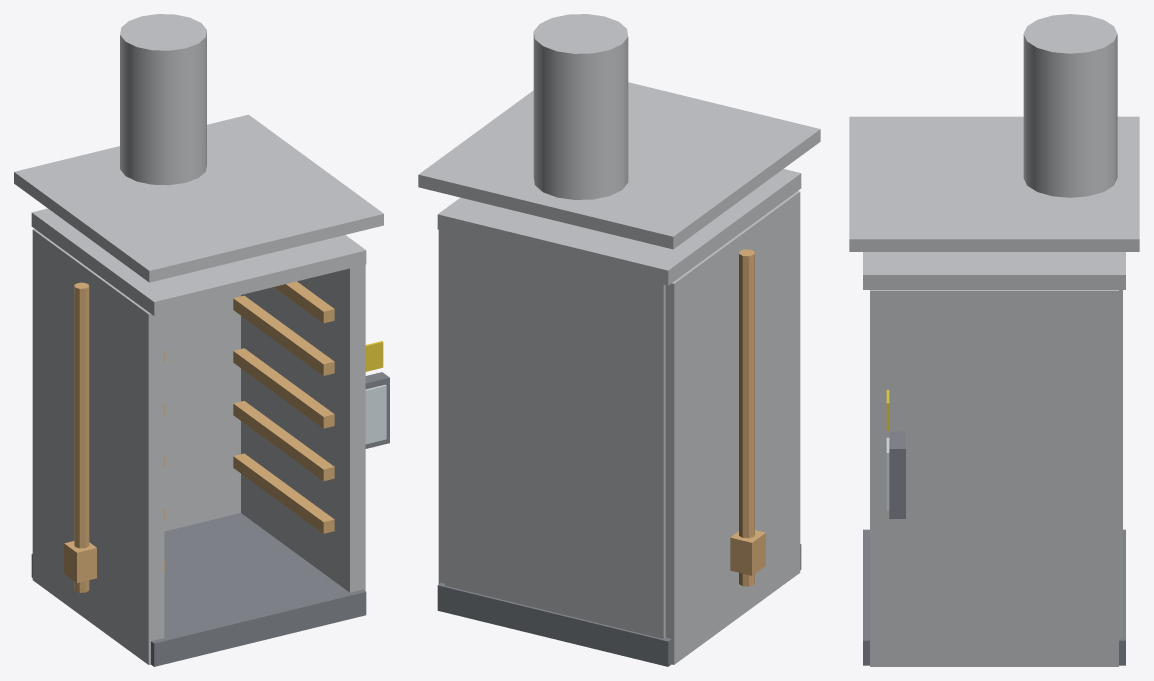
Rendered from SM_SINGE_CABINET.fbx.
The picture shows the model from 3 angles, left to right: view 1: azimuth 30°, elevation 25°; view 2: azimuth 150°, elevation 25°; view 3: azimuth 270°, elevation 25°; orthographic projection. The views are drawn at different scales.
Visible parts, largest first — view 1: SM_SINGE_CABINET; view 2: SM_SINGE_CABINET; view 3: SM_SINGE_CABINET.
Part boxes in pixels (box(x1,y1,x2,y2)): SM_SINGE_CABINET: box(14, 14, 389, 666); SM_SINGE_CABINET: box(418, 14, 820, 666); SM_SINGE_CABINET: box(849, 14, 1139, 666).
Size of the model in its own units: 242 by 460 by 210.
